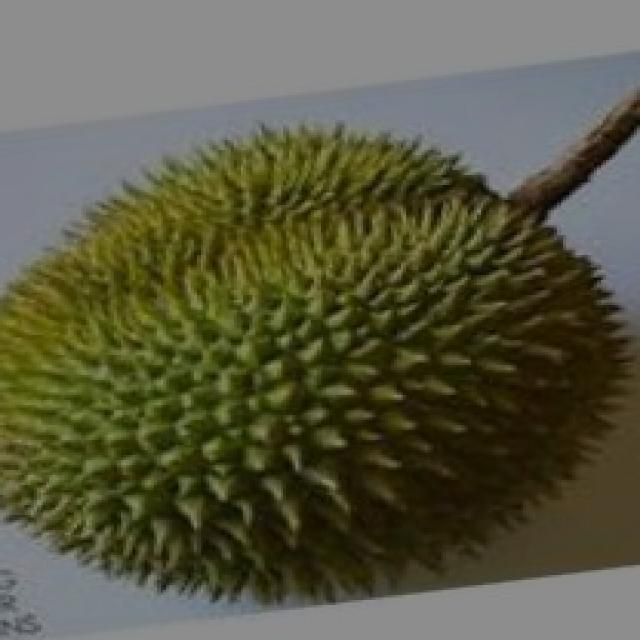fruit: (271, 158, 640, 598), (0, 272, 400, 640)
